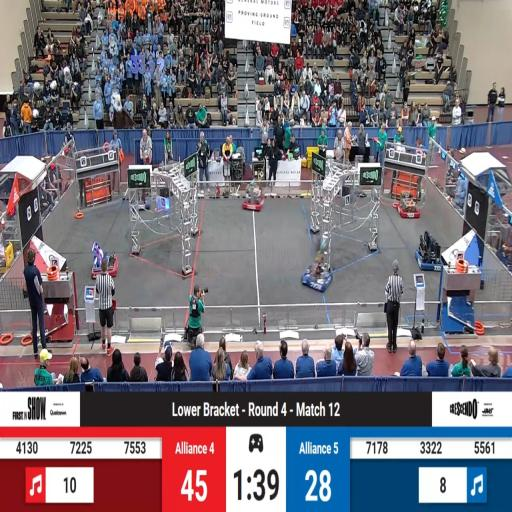robot: (300, 250, 332, 293), (415, 232, 444, 272), (92, 242, 120, 276), (243, 183, 264, 211), (396, 196, 421, 218)
